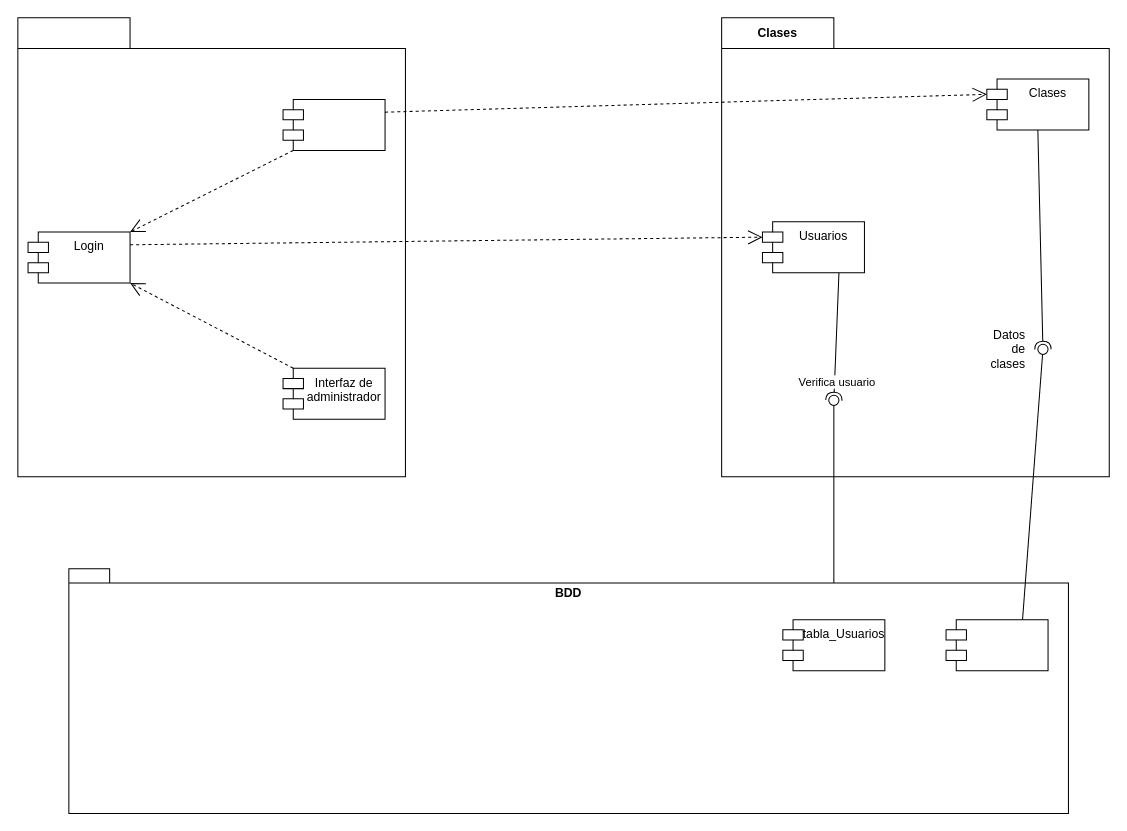
This 1127x831 diagram has some shape labels left out. The box of each missing label's shape, as (x1, y1, x2, y2) in pixels:
Gestión de clases: (282, 98, 385, 150)
Interfaces: (17, 17, 405, 477)
tabla_clases: (945, 619, 1048, 671)
